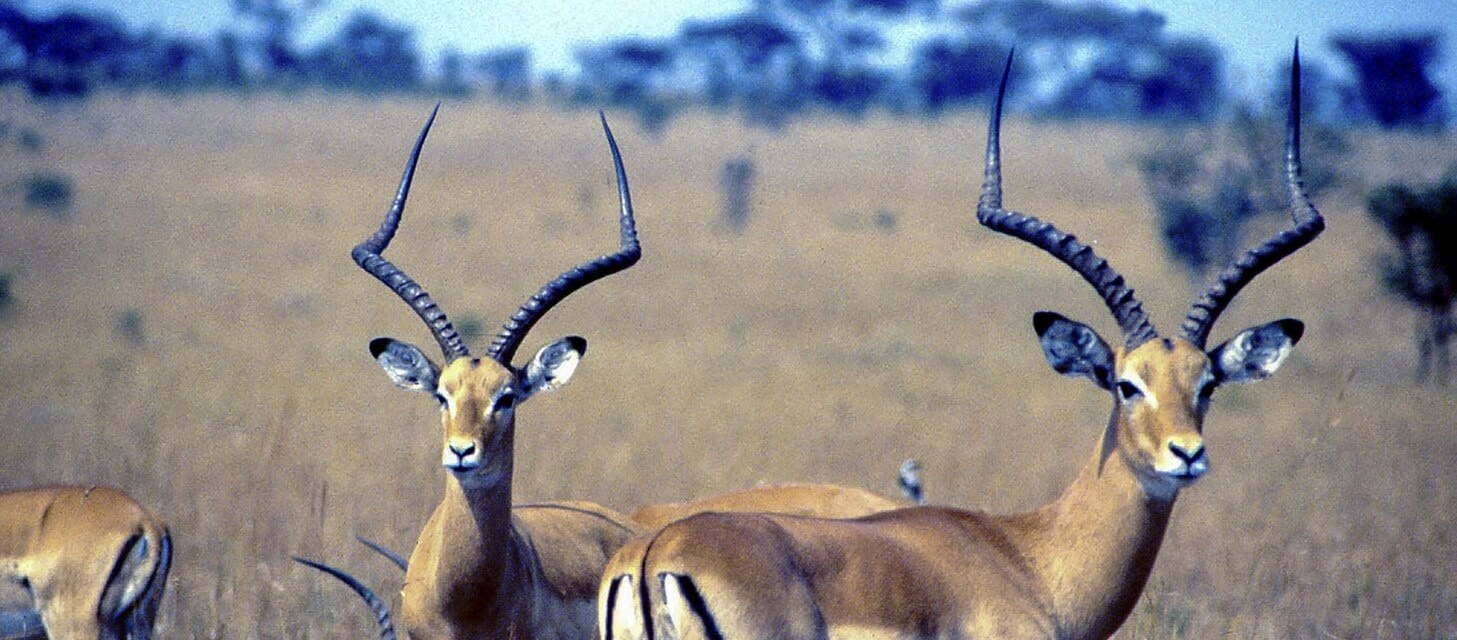impala: (596, 28, 1321, 640), (315, 75, 656, 640)
